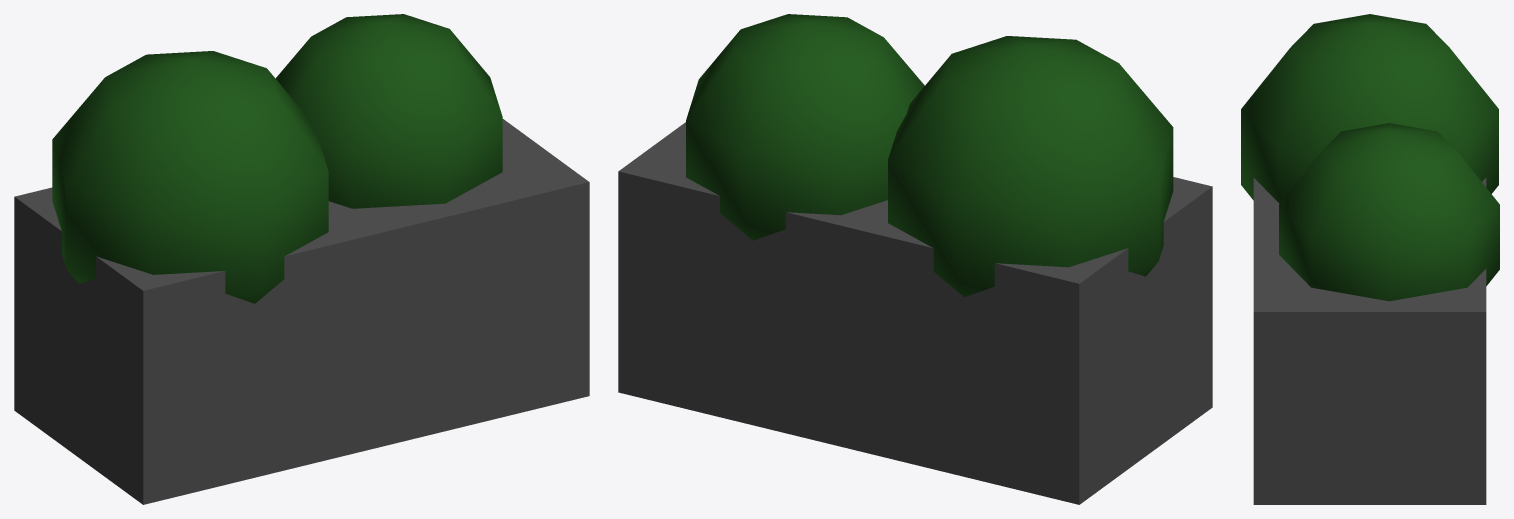
Rendered from PROP_REAL_Planter.glb.
3 renders of one model, left to right at view 1: azimuth 30°, elevation 25°; view 2: azimuth 150°, elevation 25°; view 3: azimuth 270°, elevation 25°, orthographic. The views are drawn at different scales.
Parts seen in each view (by area): view 1: PROP_REAL_Planter; view 2: PROP_REAL_Planter; view 3: PROP_REAL_Planter.
Boxes of the visible parts, x1,y1,x2,y2 form: PROP_REAL_Planter: (14,14,589,504); PROP_REAL_Planter: (618,14,1212,504); PROP_REAL_Planter: (1241,14,1499,504).
Size of the model in its own units: 1.23 by 0.95 by 0.6682.
